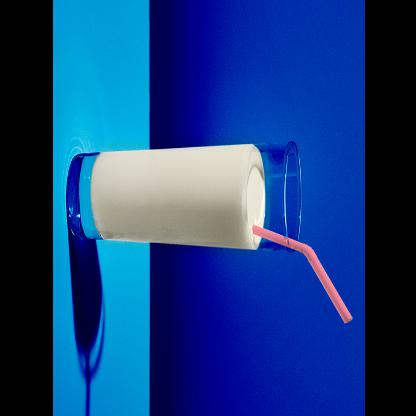milk: (88, 143, 266, 249)
